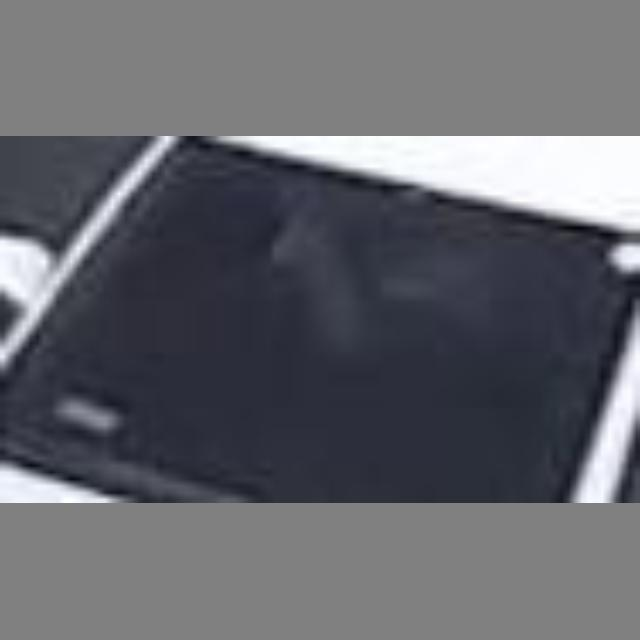pakai: (279, 204, 538, 381)
